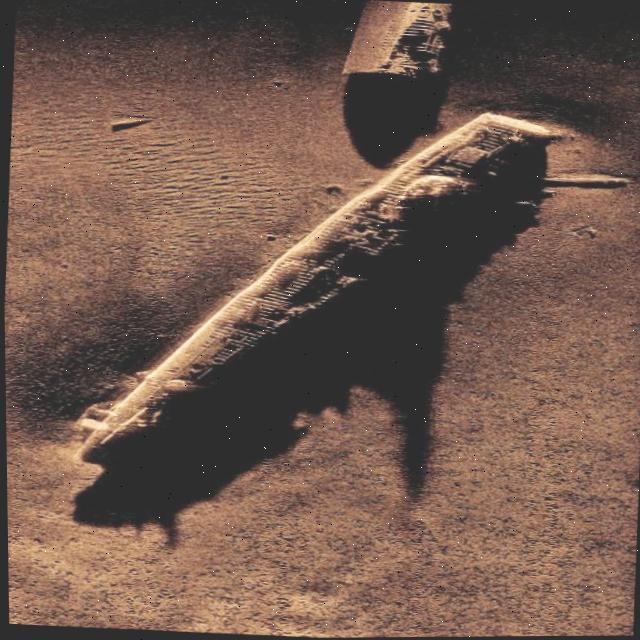shipwreck: (35, 78, 608, 502)
